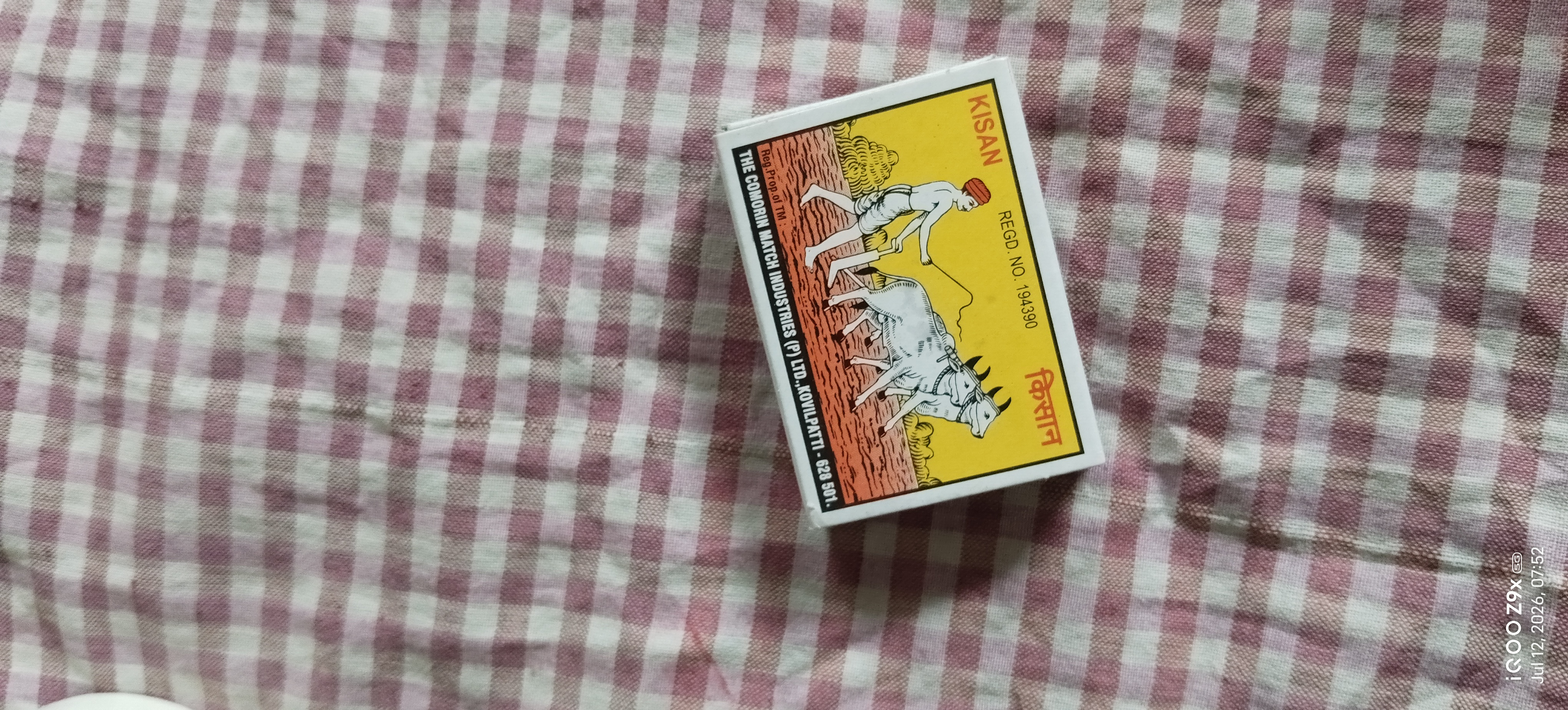matchbox: (670, 47, 1125, 554)
